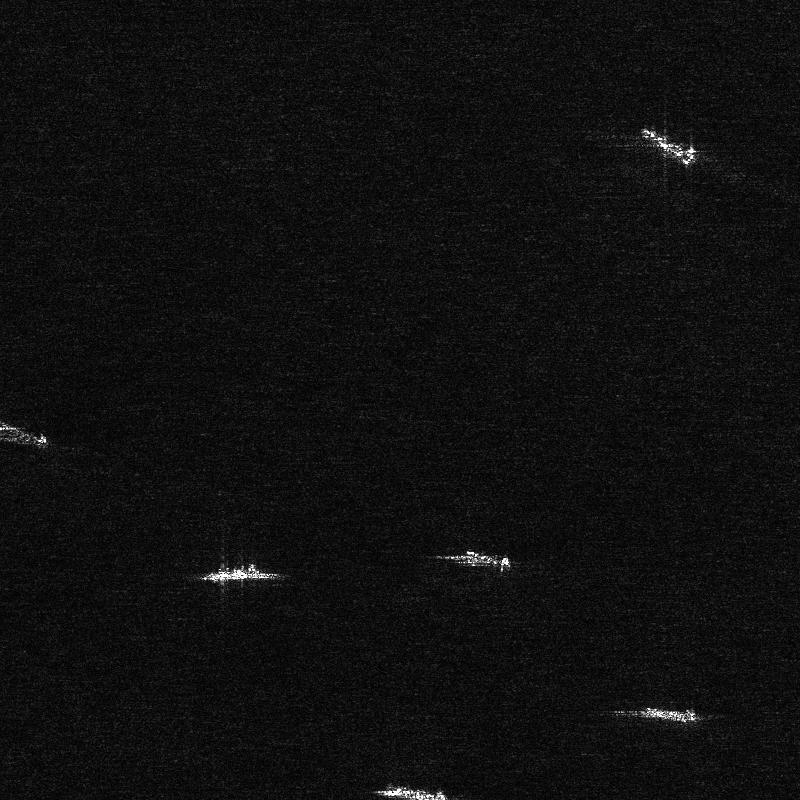ship: (641, 128, 694, 164), (203, 563, 275, 581), (377, 787, 448, 799), (641, 707, 695, 722), (465, 550, 509, 565)
